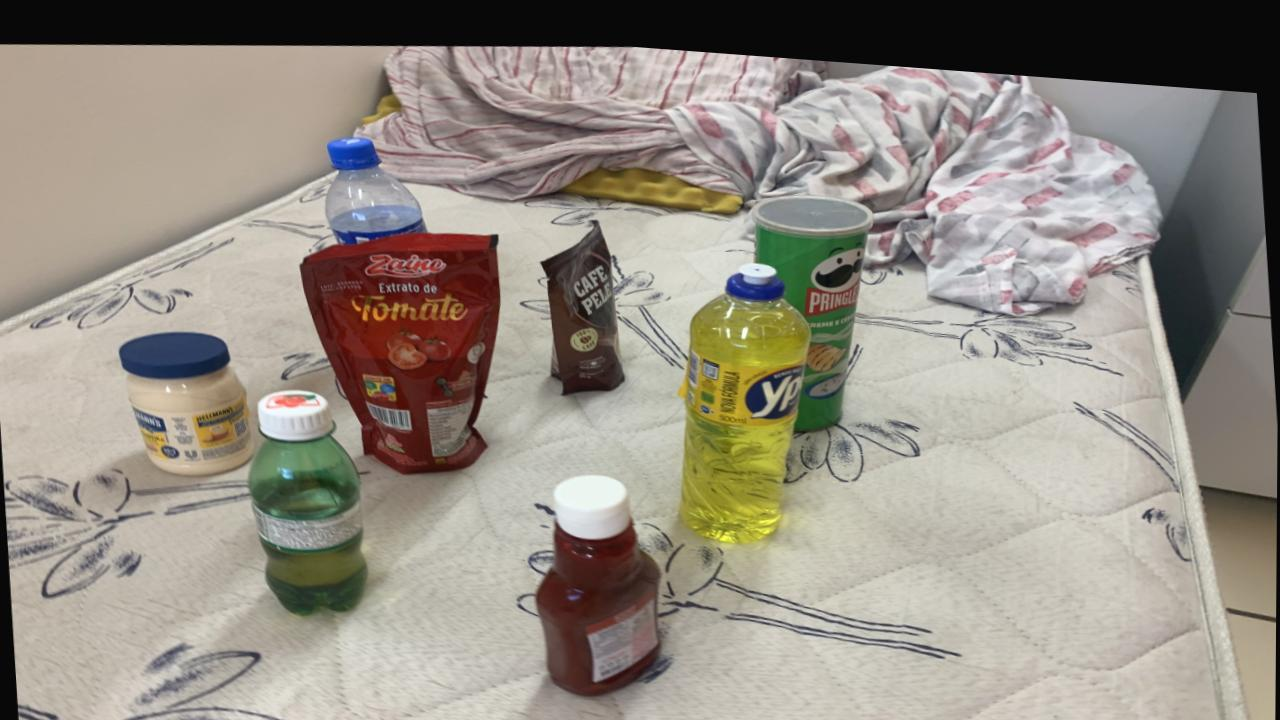Coffee-Pantry_Items: (541, 210, 624, 385)
Detergent-Cleanup_Items: (679, 251, 811, 530)
Guarana-Drinks: (248, 384, 367, 610)
Ketchup-Pantry_Items: (535, 465, 661, 686)
Mayonnaise-Pantry_Items: (118, 329, 254, 472)
Pringles-Snacks: (750, 183, 873, 418)
Tomato_Sauce-Pantry_Items: (300, 225, 501, 468)
Water_Bottle-Drinks: (325, 132, 425, 239)
